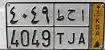0: (20, 13, 30, 48)
4: (10, 6, 20, 47), (31, 6, 40, 48)
9: (41, 6, 51, 47)
A: (78, 9, 85, 45)
J: (68, 10, 76, 44)
T: (56, 9, 65, 45)
